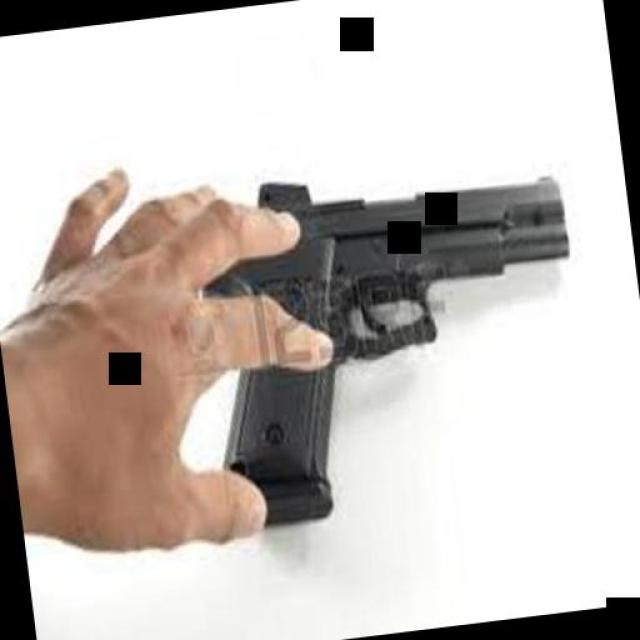gun: (160, 142, 600, 524)
